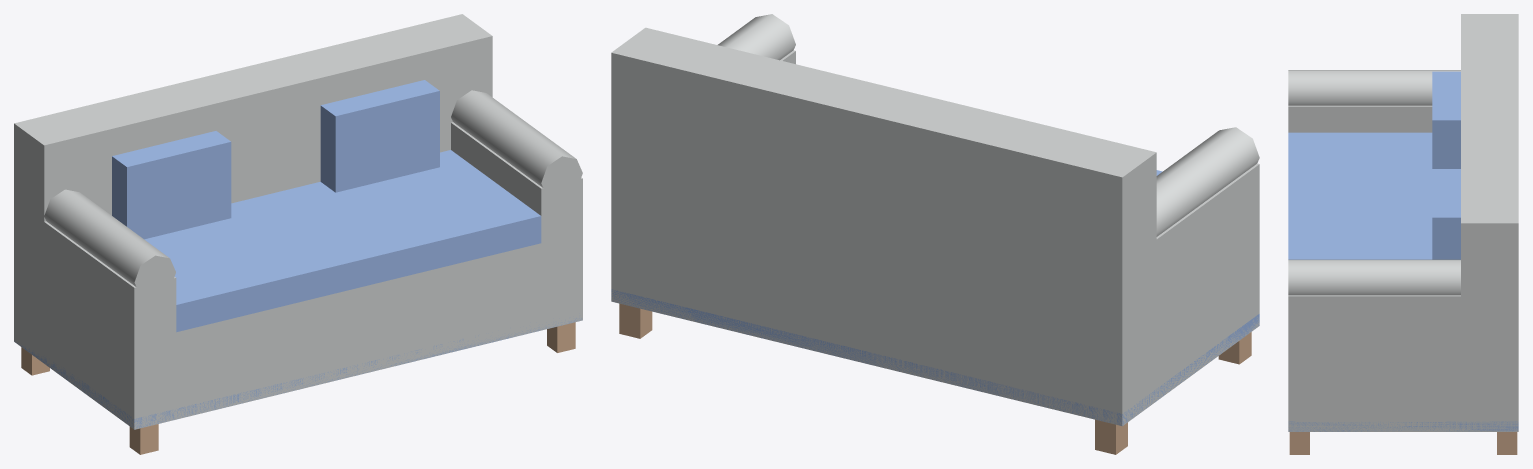
The model's file is loveseatCottage.glb.
3 views of the same model, side by side, from view 1: azimuth 30°, elevation 25°; view 2: azimuth 150°, elevation 25°; view 3: azimuth 270°, elevation 25° (orthographic). The views are drawn at different scales.
Visible parts, largest first — view 1: loveseatCottage; view 2: loveseatCottage; view 3: loveseatCottage.
Boxes of the visible parts, x1,y1,x2,y2 form: loveseatCottage: (14, 14, 582, 454); loveseatCottage: (611, 14, 1259, 454); loveseatCottage: (1288, 14, 1518, 454).
Bounding box in the file's own units: 0.86 × 0.45 × 0.4.
